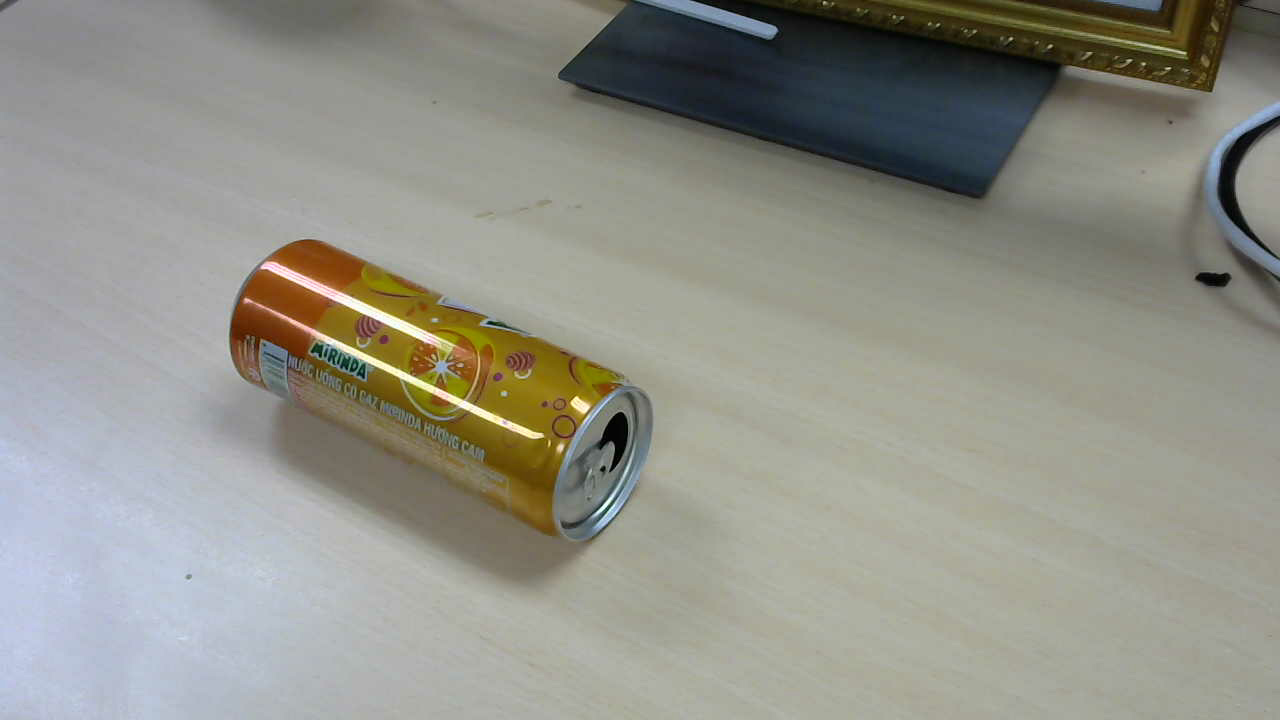Mirinda: (233, 240, 662, 549)
